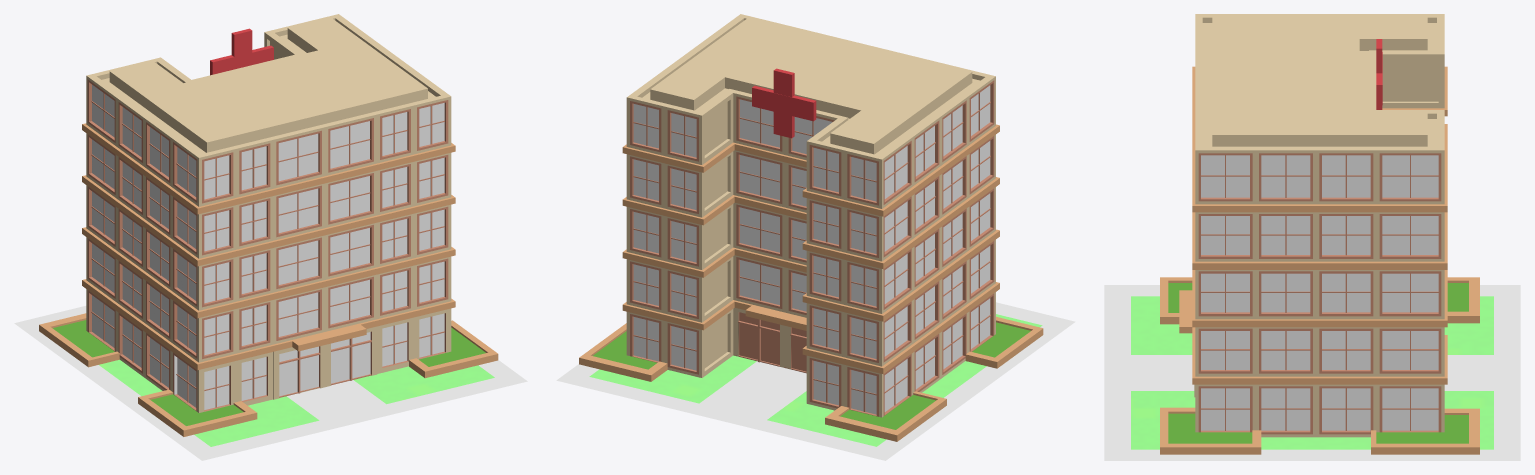
The model's file is Hospital 2x2.glb.
3 renders of one model, left to right at view 1: azimuth 30°, elevation 25°; view 2: azimuth 150°, elevation 25°; view 3: azimuth 270°, elevation 25°, orthographic. The views are drawn at different scales.
Visible parts, largest first — view 1: infrastructure-building-hospital, tile_for_home_2x2.002; view 2: infrastructure-building-hospital, tile_for_home_2x2.002; view 3: infrastructure-building-hospital, tile_for_home_2x2.002.
Part boxes in pixels (bbox=[...]): infrastructure-building-hospital: bbox=[39, 14, 498, 436]; tile_for_home_2x2.002: bbox=[14, 306, 527, 460]; infrastructure-building-hospital: bbox=[579, 14, 1043, 441]; tile_for_home_2x2.002: bbox=[556, 302, 1075, 460]; infrastructure-building-hospital: bbox=[1160, 14, 1479, 454]; tile_for_home_2x2.002: bbox=[1104, 285, 1520, 460].
Size of the model in its own units: 16 by 13.99 by 16.
4 materials, 2 textured.
